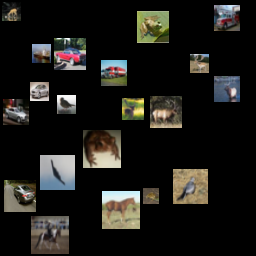airplane: (5, 20, 43, 58), (183, 155, 218, 190)
automobile: (106, 53, 138, 85)
bird: (199, 21, 231, 53), (36, 202, 68, 234), (202, 66, 234, 98)
cat: (189, 109, 224, 144), (19, 124, 54, 159), (69, 210, 104, 245), (66, 169, 92, 195), (127, 128, 153, 154), (102, 97, 124, 119)
deer: (164, 65, 199, 100), (3, 214, 25, 236), (70, 85, 89, 104)
dog: (28, 61, 63, 96)
frog: (134, 160, 172, 198), (65, 19, 91, 45)
ship: (121, 22, 150, 51)
